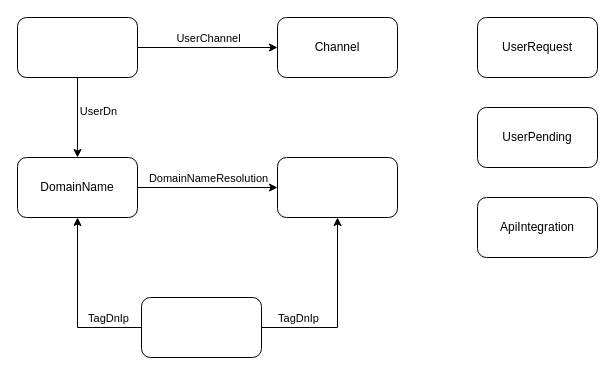
The diagram is 615 pixels wide and 375 high, and some of its shapes have lost their labels. Each missing label, with the centre of its shape:
IPAddress: [337,187]
Tag: [201,327]
Users: [77,47]
